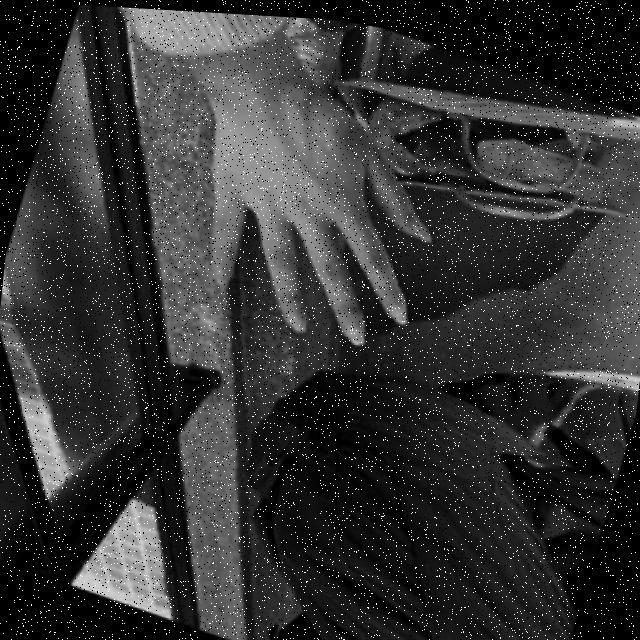no-gloves: (192, 69, 448, 358)
